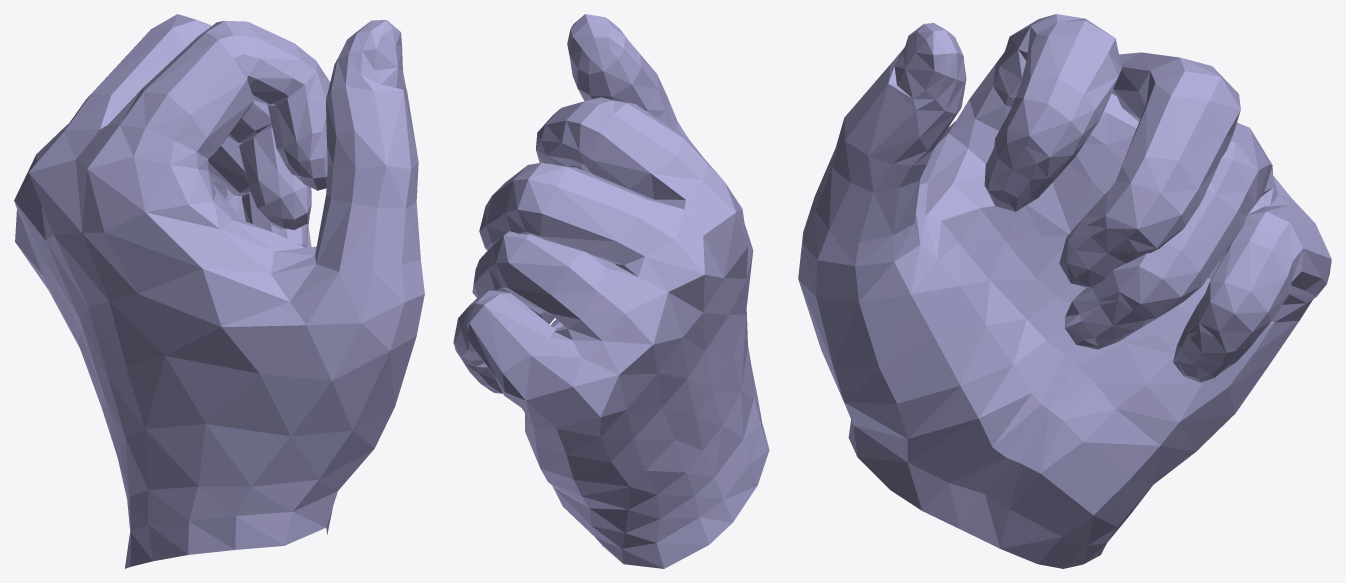
Rendered from frame_0068_source_000068_hand.glb.
3 renders of one model, left to right at view 1: azimuth 30°, elevation 25°; view 2: azimuth 150°, elevation 25°; view 3: azimuth 270°, elevation 25°, orthographic. The views are drawn at different scales.
Parts seen in each view (by area): view 1: world; view 2: world; view 3: world.
Part boxes in pixels (box(x1,y1,x2,y2)): world: box(14, 14, 424, 568); world: box(453, 14, 769, 568); world: box(798, 14, 1331, 568).
Bounding box in the file's own units: 0.0619 × 0.1229 × 0.1011.
